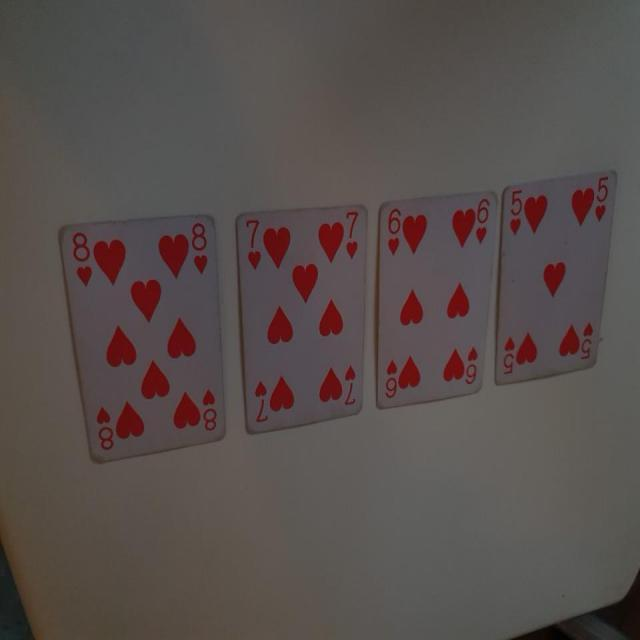5 of hearts: (496, 166, 616, 386)
6 of hearts: (370, 186, 500, 407)
7 of hearts: (230, 194, 374, 438)
8 of hearts: (56, 212, 226, 474)
